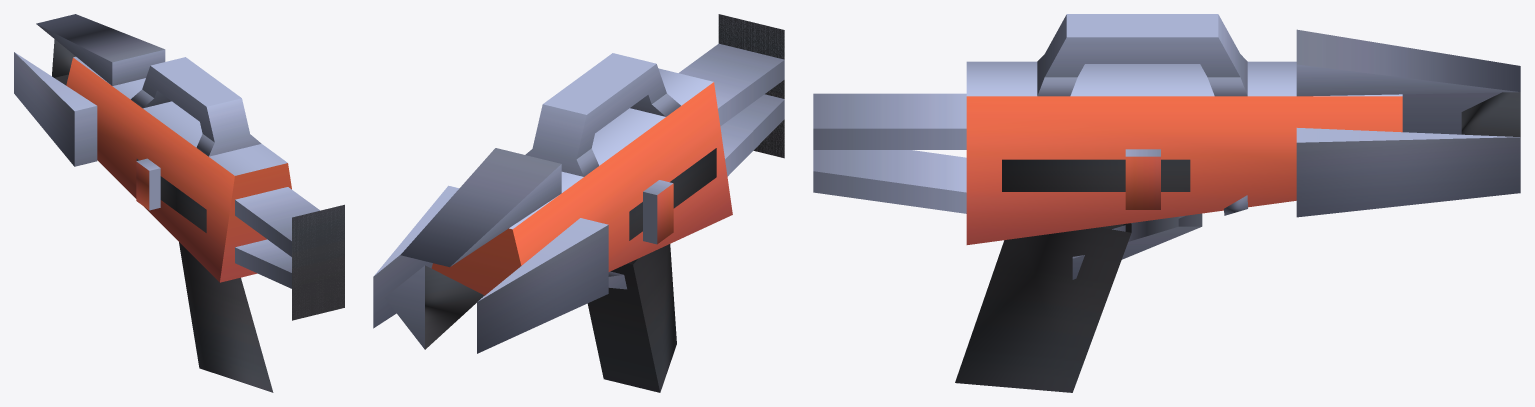
Rendered from blaster-n.glb.
The picture shows the model from 3 angles, left to right: view 1: azimuth 30°, elevation 25°; view 2: azimuth 150°, elevation 25°; view 3: azimuth 270°, elevation 25°; orthographic projection. The views are drawn at different scales.
Visible parts, largest first — view 1: blaster-n; view 2: blaster-n; view 3: blaster-n.
Part boxes in pixels (x1,y1,x2,y2): blaster-n: (14, 14, 344, 392); blaster-n: (373, 14, 784, 392); blaster-n: (813, 14, 1520, 392).
Size of the model in its own units: 0.17 by 0.3301 by 0.6001.
Materials: 1 (1 with a texture image).
